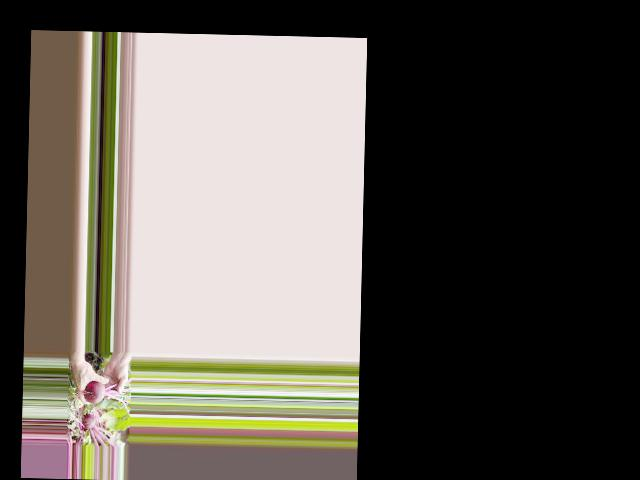beet: (83, 379, 130, 417)
